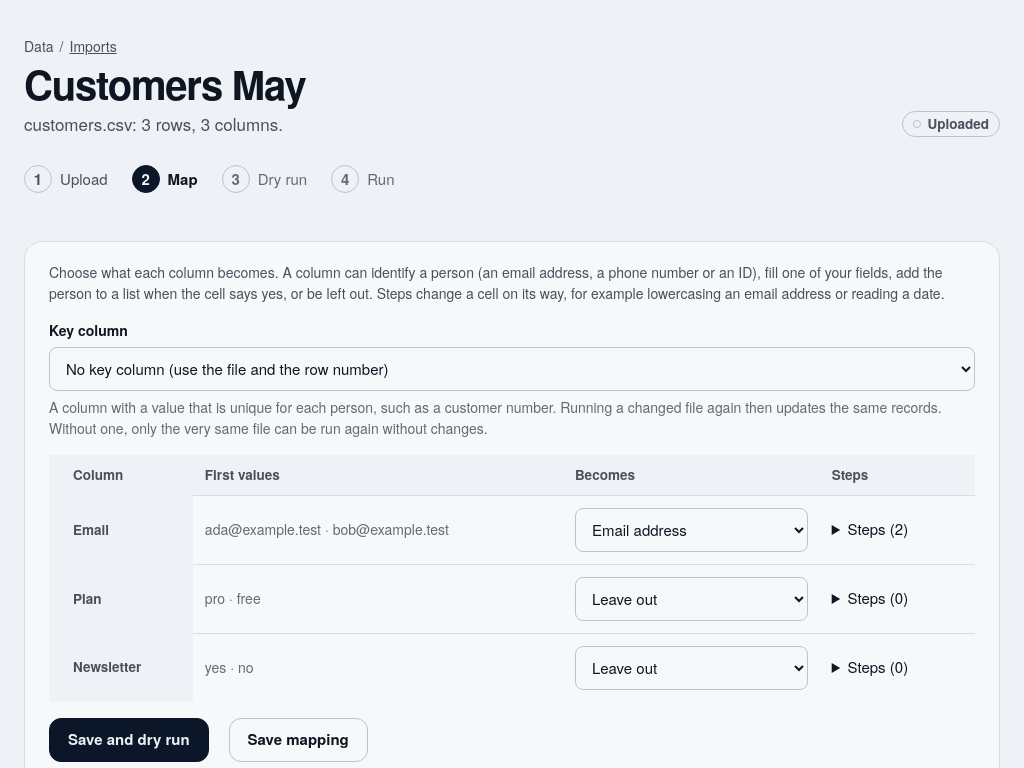
Scenario: the map step › shows why the server refused the mapping
Step 1. Click the button "Save and dry run" → point(129, 740), box 49,718 -> 209,762
(page scrolled)
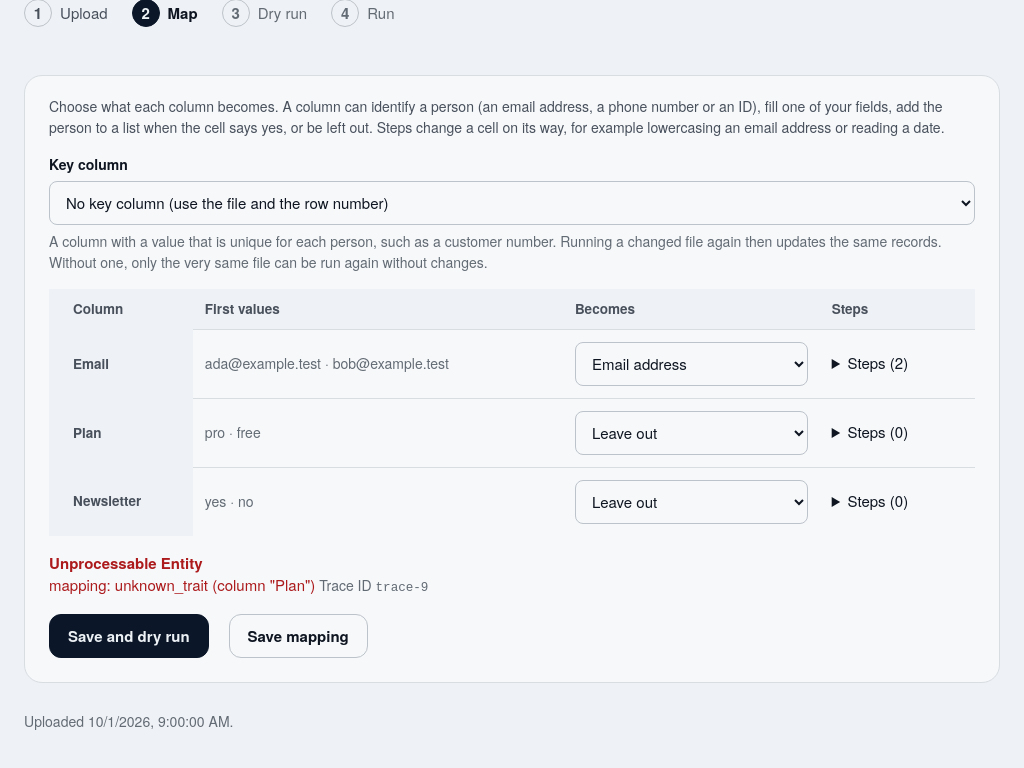
Expected: the button "Save and dry run" is enabled, 49,614 -> 209,658
Expected: the text "mapping: unknown_trait (column \"Plan\")" is shown, 49,574 -> 315,595
Expected: the text "trace-9" is shown, 376,581 -> 428,595
